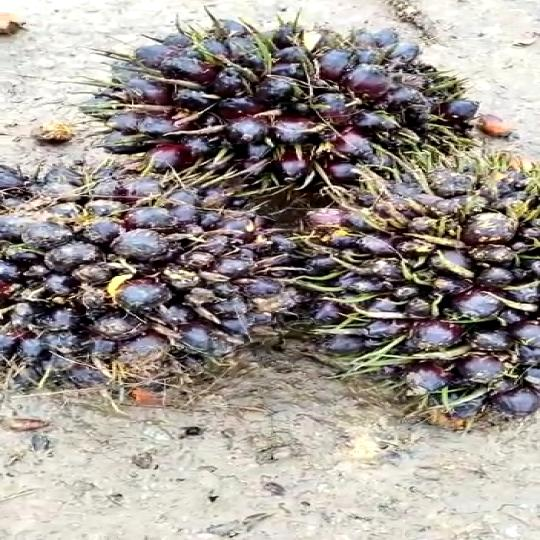mentah: (0, 159, 325, 417), (287, 148, 540, 442), (90, 16, 461, 182)
